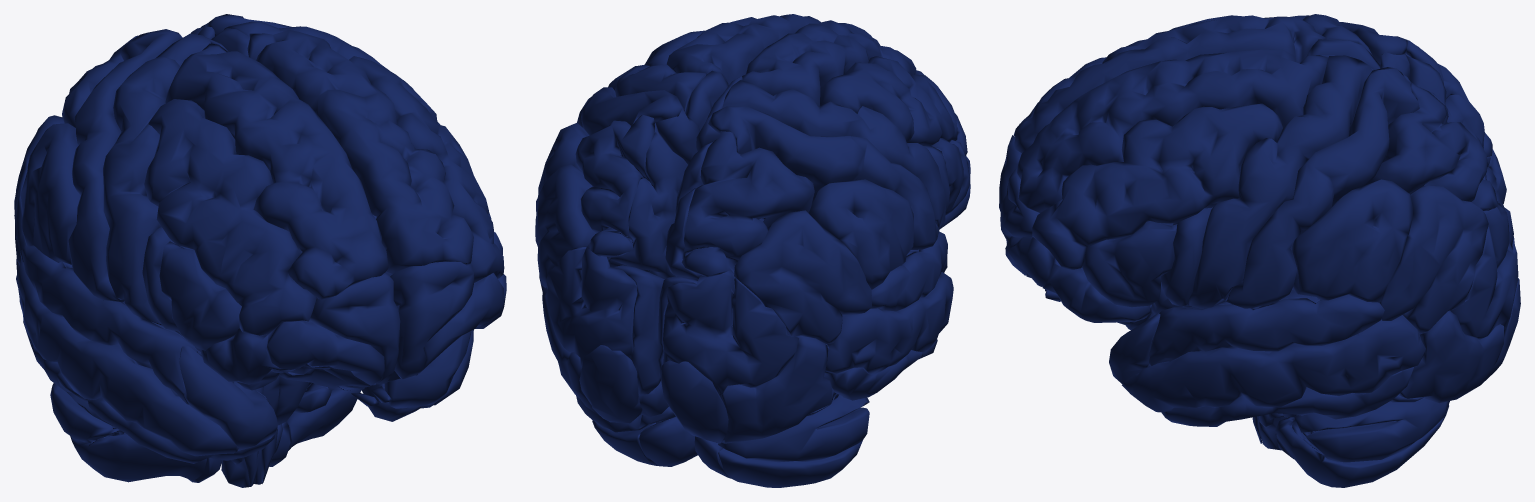
Rendered from human-reference-brain-web.glb.
The picture shows the model from 3 angles, left to right: view 1: azimuth 30°, elevation 25°; view 2: azimuth 150°, elevation 25°; view 3: azimuth 270°, elevation 25°; orthographic projection. The views are drawn at different scales.
Visible parts, largest first — view 1: HRA_Allen_actual_reference_brain_web_display_LOD; view 2: HRA_Allen_actual_reference_brain_web_display_LOD; view 3: HRA_Allen_actual_reference_brain_web_display_LOD.
Part boxes in pixels (x1=…): HRA_Allen_actual_reference_brain_web_display_LOD: x1=14, y1=14, x2=506, y2=487; HRA_Allen_actual_reference_brain_web_display_LOD: x1=535, y1=14, x2=970, y2=487; HRA_Allen_actual_reference_brain_web_display_LOD: x1=999, y1=14, x2=1520, y2=487.
Bounding box in the file's own units: 3.34 × 3.57 × 4.09.
